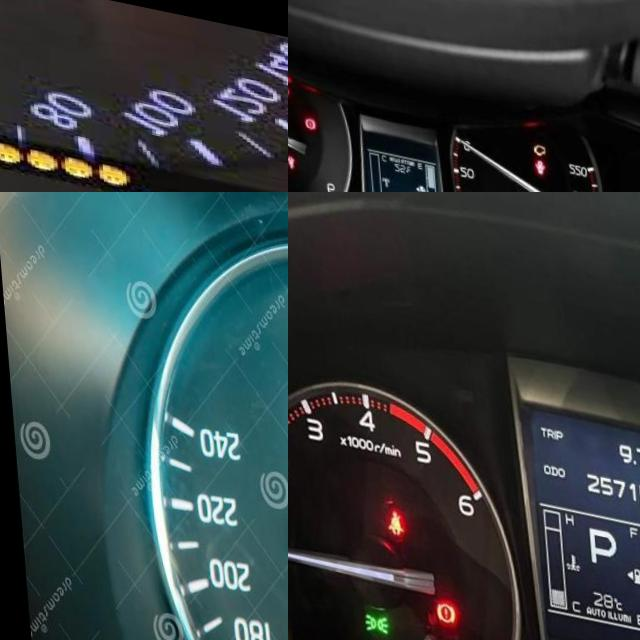Seat Belt: (378, 501, 399, 532), (288, 146, 290, 161)
